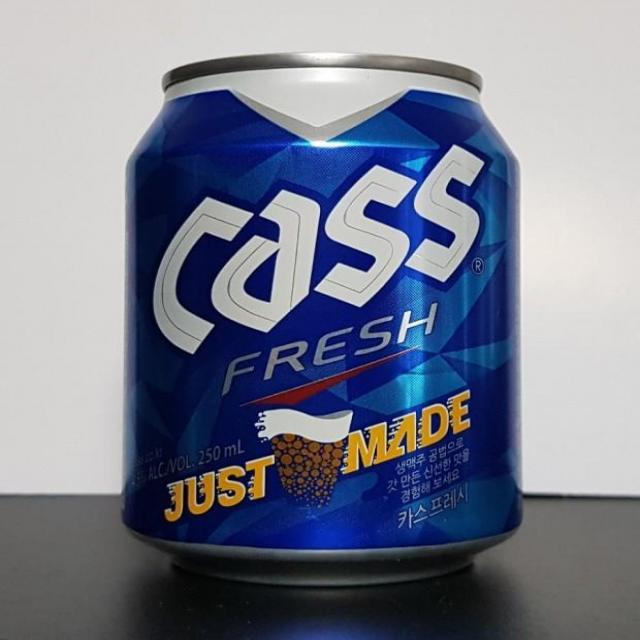beer-can: (116, 48, 534, 600)
